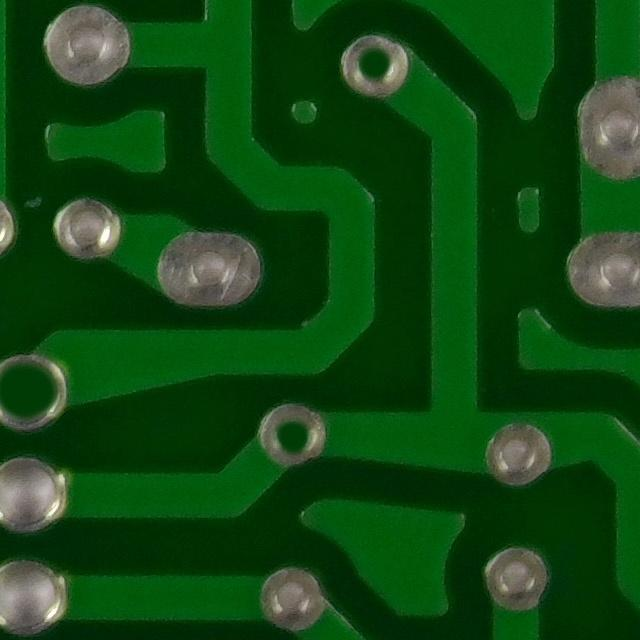missing_hole: (0, 348, 78, 436), (260, 402, 328, 471), (340, 32, 408, 99)
